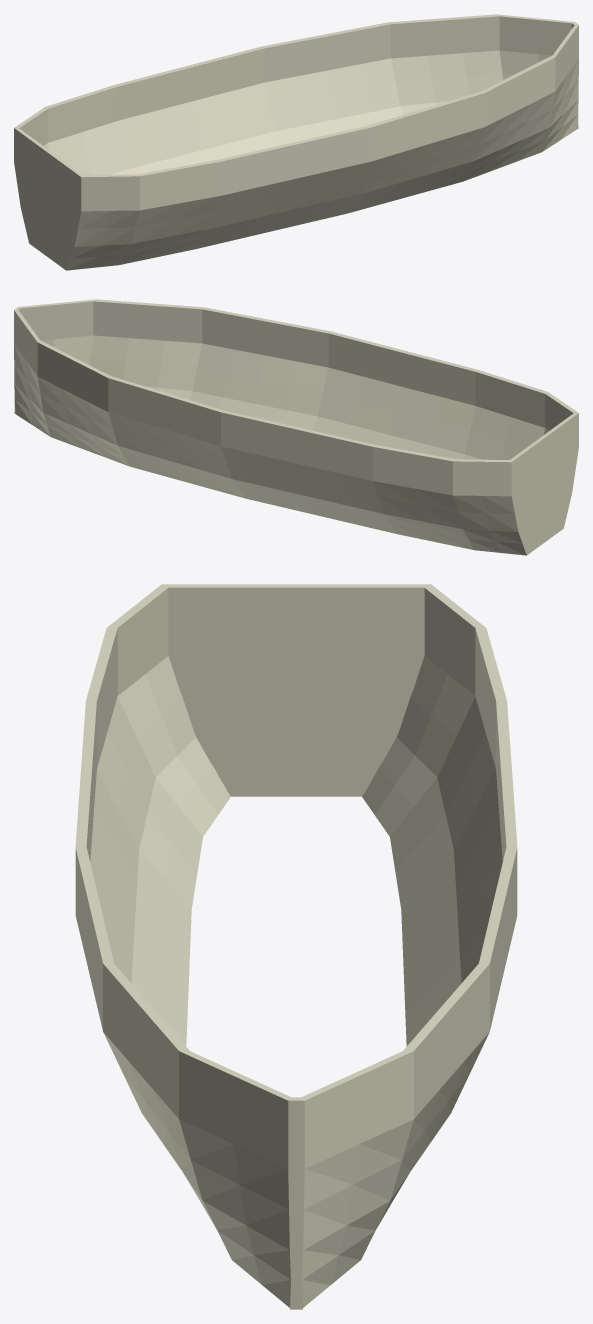
Rendered from reference_ship_hull_collision.fbx.
The picture shows the model from 3 angles, top to bottom: view 1: azimuth 30°, elevation 25°; view 2: azimuth 150°, elevation 25°; view 3: azimuth 270°, elevation 25°; orthographic projection. The views are drawn at different scales.
Parts seen in each view (by area): view 1: UCX_End_wall_002, UCX_End_wall_001, UCX_End_wall, UCX_Hull_5_-1_2, UCX_Hull_7_-1_2, UCX_Hull_7_-1_3, UCX_Hull_6_-1_2, UCX_Hull_6_-1_3, UCX_Hull_5_-1_3, UCX_Hull_4_-1_2, UCX_Hull_4_-1_3, UCX_Hull_3_-1_3 (+128 smaller); view 2: UCX_End_wall_002, UCX_End_wall_001, UCX_End_wall, UCX_Hull_5_1_2, UCX_Hull_7_1_2, UCX_Hull_7_1_3, UCX_Hull_6_1_2, UCX_Hull_6_1_3, UCX_Hull_5_1_3, UCX_Hull_4_1_2, UCX_Hull_4_1_3, UCX_Hull_3_1_3 (+127 smaller); view 3: UCX_End_wall_001, UCX_End_wall_002, UCX_End_wall, UCX_Hull_16_-1_5, UCX_Hull_16_1_5, UCX_Hull_16_-1_3, UCX_Hull_16_1_3, UCX_Hull_15_-1_5, UCX_Hull_15_1_5, UCX_Hull_16_-1_2, UCX_Hull_16_-1_4, UCX_Hull_16_1_4 (+83 smaller).
Boxes of the visible parts, box(x1,y1,x2,y2) form: UCX_End_wall_002: box(14, 127, 82, 210); UCX_End_wall_001: box(14, 162, 81, 246); UCX_End_wall: box(21, 208, 74, 269); UCX_Hull_5_-1_2: box(159, 126, 201, 159); UCX_Hull_7_-1_2: box(233, 107, 274, 140); UCX_Hull_7_-1_3: box(227, 82, 269, 116); UCX_Hull_6_-1_2: box(196, 116, 238, 149); UCX_Hull_6_-1_3: box(191, 92, 232, 125); UCX_Hull_5_-1_3: box(154, 102, 195, 135); UCX_Hull_4_-1_2: box(122, 136, 164, 169); UCX_Hull_4_-1_3: box(117, 111, 159, 144); UCX_Hull_3_-1_3: box(82, 121, 122, 155); UCX_End_wall_002: box(508, 412, 578, 495); UCX_End_wall_001: box(512, 447, 578, 531); UCX_End_wall: box(518, 493, 571, 555); UCX_Hull_5_1_2: box(391, 411, 433, 444); UCX_Hull_7_1_2: box(318, 392, 359, 425); UCX_Hull_7_1_3: box(323, 367, 365, 401); UCX_Hull_6_1_2: box(354, 401, 396, 434); UCX_Hull_6_1_3: box(360, 377, 401, 410); UCX_Hull_5_1_3: box(397, 387, 438, 420); UCX_Hull_4_1_2: box(428, 421, 470, 454); UCX_Hull_4_1_3: box(433, 396, 475, 429); UCX_Hull_3_1_3: box(470, 406, 510, 440); UCX_End_wall_001: box(168, 656, 424, 737); UCX_End_wall_002: box(162, 584, 430, 655); UCX_End_wall: box(196, 737, 396, 796); UCX_Hull_16_-1_5: box(293, 1076, 359, 1134); UCX_Hull_16_1_5: box(233, 1076, 298, 1134); UCX_Hull_16_-1_3: box(293, 1144, 359, 1209); UCX_Hull_16_1_3: box(233, 1144, 299, 1209); UCX_Hull_15_-1_5: box(349, 1051, 413, 1109); UCX_Hull_15_1_5: box(179, 1051, 243, 1109); UCX_Hull_16_-1_2: box(292, 1185, 352, 1249); UCX_Hull_16_-1_4: box(294, 1110, 359, 1168); UCX_Hull_16_1_4: box(233, 1110, 298, 1168).
Size of the model in its own units: 17.7 by 3.34 by 6.4.
